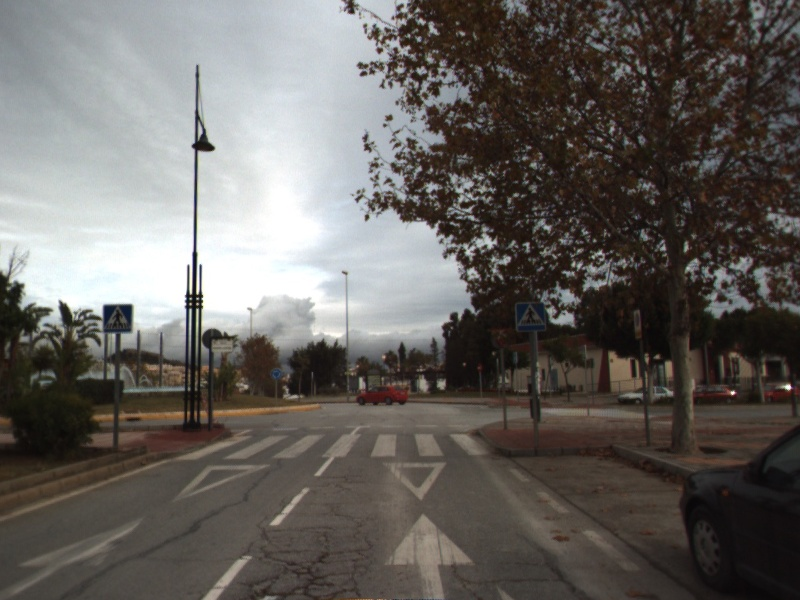STRAIGHT: (1, 511, 150, 600), (381, 509, 479, 600)
